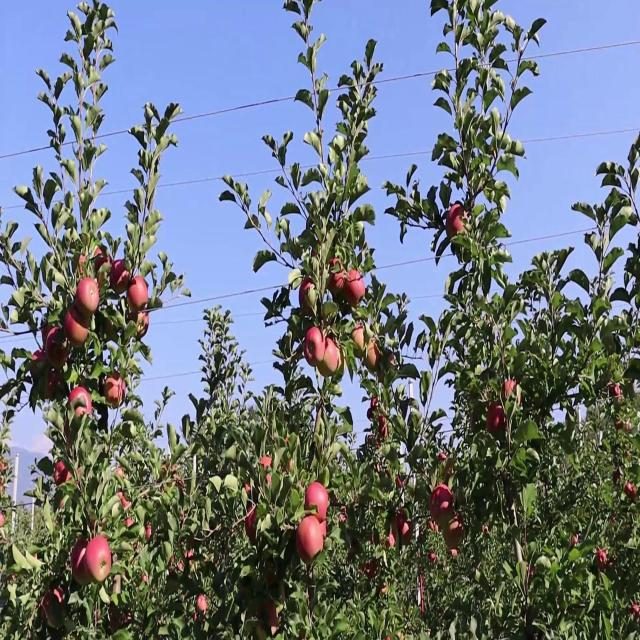apple: (64, 305, 91, 356), (296, 519, 324, 565), (88, 533, 112, 583), (432, 483, 455, 528), (48, 327, 71, 370), (76, 277, 100, 318), (72, 540, 92, 588), (44, 590, 67, 628), (304, 327, 324, 370), (328, 255, 346, 302), (348, 270, 368, 308), (308, 483, 329, 519), (448, 206, 470, 240), (300, 277, 317, 318), (320, 341, 338, 379), (324, 341, 343, 377), (488, 405, 508, 439), (128, 277, 149, 309), (104, 376, 123, 411), (444, 519, 464, 551), (44, 369, 64, 400), (72, 391, 93, 420), (164, 462, 184, 491), (112, 376, 128, 412), (112, 263, 131, 293), (364, 341, 382, 372), (352, 319, 367, 356), (96, 255, 111, 292), (504, 376, 523, 405), (264, 604, 280, 636), (32, 348, 48, 377), (56, 462, 72, 489), (96, 248, 111, 276), (248, 504, 259, 540), (392, 511, 408, 535), (260, 455, 273, 484), (440, 455, 455, 480), (136, 312, 149, 340), (76, 255, 90, 276), (608, 383, 622, 402), (596, 547, 608, 569), (104, 319, 116, 341), (624, 483, 636, 503), (404, 526, 414, 548), (196, 597, 208, 613), (268, 568, 278, 587), (384, 533, 396, 548), (320, 519, 328, 539), (632, 604, 640, 624), (44, 327, 51, 347), (340, 348, 345, 375), (572, 533, 580, 548), (244, 483, 252, 496), (616, 469, 621, 484), (148, 526, 153, 540)
